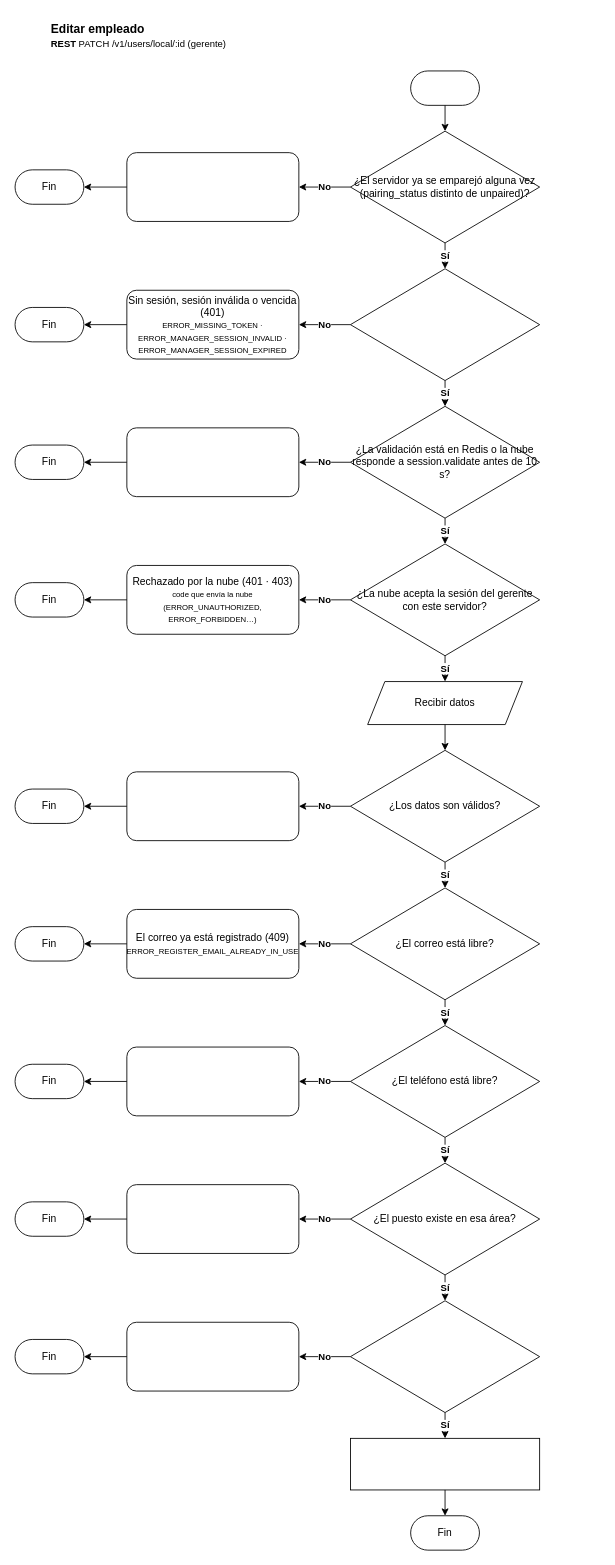
Some shapes in this 615 by 1565 pixel diagram are drawn without their labels. Each missing label, with the centre of its shape:
"Datos inválidos (400) ERROR_BAD_REQUEST" goes at [212,806].
"El puesto no existe en esa área (404) ERROR_USER_AREA_JOB_POSITION_NOT_EXIST" goes at [212,1218].
"El teléfono ya está registrado (409) ERROR_REGISTER_PHONE_NUMBER_ALREADY_IN_USE" goes at [212,1081].
"El usuario no existe (404) ERROR_USER_NOT_EXIST" goes at [212,1356].
"Inicio" goes at [444,87].
"La nube no responde (503) ERROR_CLOUD_UNAVAILABLE · ERROR_SERVER_UNLINKED" goes at [212,462].
"Responder 200 con el mensaje USER_UPDATED" goes at [445,1463].
"Servidor sin emparejar (409) ERROR_SERVER_NOT_PAIRED" goes at [212,186].
"¿Existe el empleado?" goes at [445,1356].
"¿Trae una sesión de gerente válida (Bearer mss_..., sin 30 min de inactividad)?" goes at [445,324].
